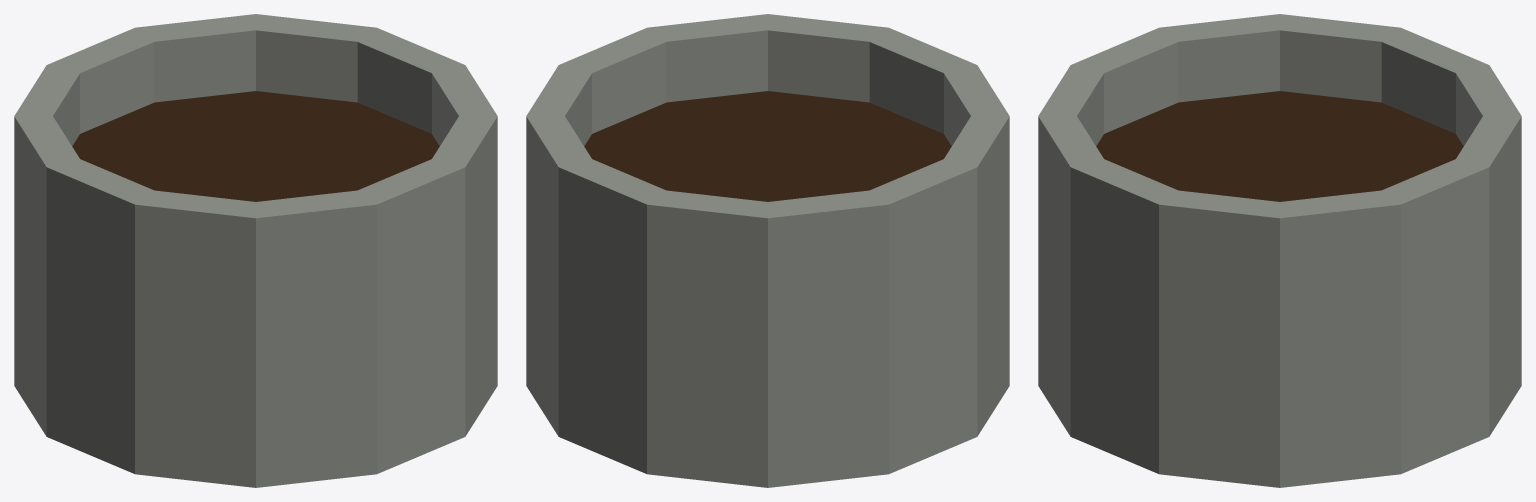
Rendered from planter-round.lod1.glb.
The picture shows the model from 3 angles, left to right: view 1: azimuth 30°, elevation 25°; view 2: azimuth 150°, elevation 25°; view 3: azimuth 270°, elevation 25°; orthographic projection.
Parts seen in each view (by area): view 1: planter-round-shell-and-soil; view 2: planter-round-shell-and-soil; view 3: planter-round-shell-and-soil.
Boxes of the visible parts, x1=… form: planter-round-shell-and-soil: x1=14, y1=14, x2=497, y2=487; planter-round-shell-and-soil: x1=526, y1=14, x2=1009, y2=487; planter-round-shell-and-soil: x1=1038, y1=14, x2=1521, y2=487.
Bounding box in the file's own units: 0.65 × 0.4 × 0.65.
